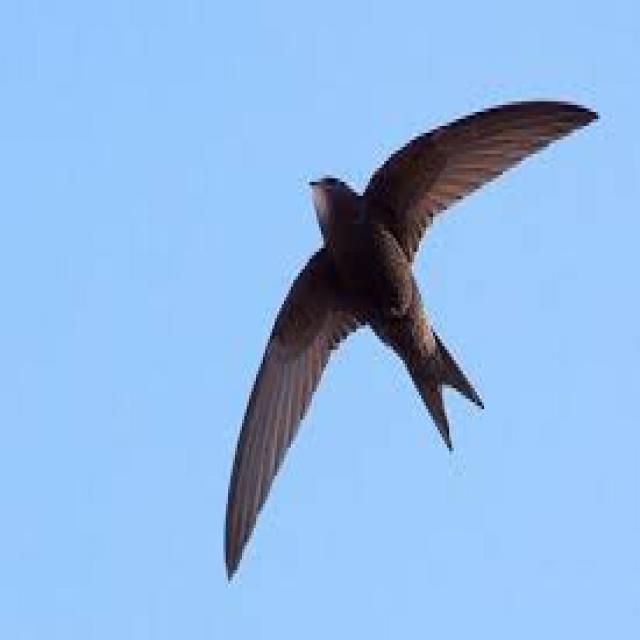birds: (217, 95, 603, 588)
